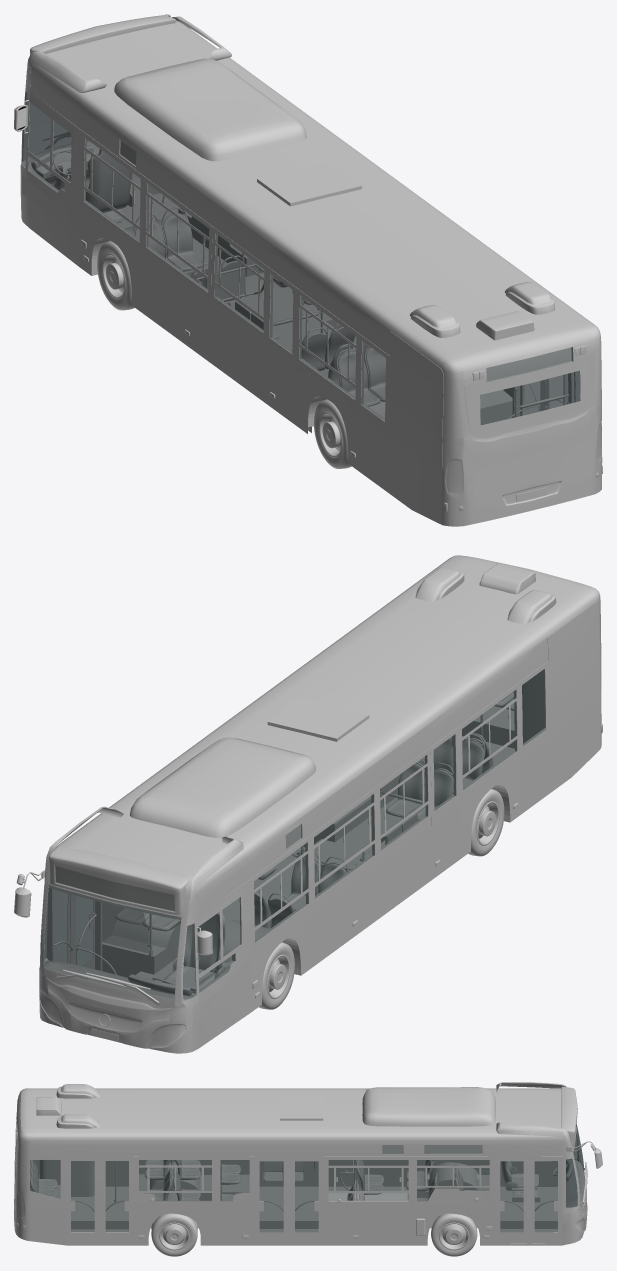
The model's file is camionJugador444.fbx.
The picture shows the model from 3 angles, top to bottom: view 1: azimuth 30°, elevation 25°; view 2: azimuth 150°, elevation 25°; view 3: azimuth 270°, elevation 25°; orthographic projection. The views are drawn at different scales.
Parts seen in each view (by area): view 1: EXTE_BUS_STRUCTURE, glass, INTE_BUS_STRUCTURE, driver_seat, WheelFL, WheelRL, CHAIR_097, CHAIR_112, CHAIR_113, CHAIR_114; view 2: EXTE_BUS_STRUCTURE, glass, INTE_BUS_STRUCTURE, driver_seat, WheelRL, WheelFL, DOOR_1B, DOOR_1A, CHAIR_109, CHAIR_095, CHAIR_111, CHAIR_114 (+1 smaller); view 3: EXTE_BUS_STRUCTURE, glass, INTE_BUS_STRUCTURE, DOOR_2B, DOOR_2A, DOOR_1B, DOOR_1A, DOOR_3A, DOOR_3B, WheelRR, WheelFR, driver_seat (+7 smaller).
Boxes of the visible parts, x1,y1,x2,y2 form: EXTE_BUS_STRUCTURE: (20,15,602,526); glass: (22,91,580,424); INTE_BUS_STRUCTURE: (22,91,569,424); driver_seat: (86,149,132,222); WheelFL: (97,240,134,310); WheelRL: (314,399,351,468); CHAIR_097: (161,207,205,271); CHAIR_112: (336,345,380,406); CHAIR_113: (364,345,385,401); CHAIR_114: (301,327,327,370); EXTE_BUS_STRUCTURE: (39,555,602,1053); glass: (44,669,545,999); INTE_BUS_STRUCTURE: (44,669,545,999); driver_seat: (162,912,225,995); WheelRL: (468,789,504,856); WheelFL: (259,942,294,1009); DOOR_1B: (72,895,96,969); DOOR_1A: (53,890,72,963); CHAIR_109: (386,759,425,817); CHAIR_095: (284,850,321,910); CHAIR_111: (453,734,485,793); CHAIR_114: (416,762,453,820); EXTE_BUS_STRUCTURE: (14,1082,587,1245); glass: (15,1119,584,1207); INTE_BUS_STRUCTURE: (15,1129,584,1232); DOOR_2B: (257,1158,289,1243); DOOR_2A: (289,1158,321,1243); DOOR_1B: (498,1158,529,1243); DOOR_1A: (529,1158,560,1243); DOOR_3A: (100,1158,131,1243); DOOR_3B: (68,1158,99,1243); WheelRR: (151,1213,197,1256); WheelFR: (431,1213,477,1256); driver_seat: (501,1161,540,1202).
Bounding box in the file's own units: 305 × 338 × 1357.
